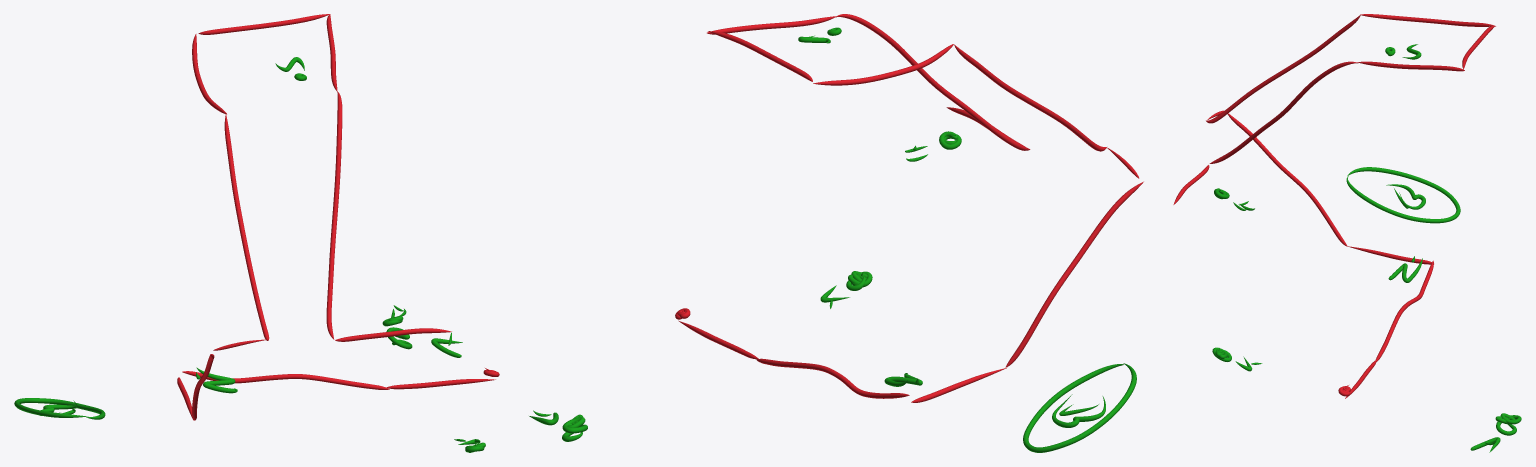
The picture shows the model from 3 angles, left to right: view 1: azimuth 30°, elevation 25°; view 2: azimuth 150°, elevation 25°; view 3: azimuth 270°, elevation 25°; orthographic projection. The views are drawn at different scales.
Visible parts, largest first — view 1: s.0029, s.0025, s.0020, s.0040, s.0027, s.0030, s.0022; view 2: s.0040, s.0023, s.0029, s.0025, s.0020, s.0026, s.0028, s.0027; view 3: s.0040, s.0025, s.0029, s.0023, s.0026, s.0020, s.0028, s.0033.
Part boxes in pixels (left/top/right/bottom): s.0029: left=326, top=92, right=342, bottom=339; s.0025: left=224, top=114, right=269, bottom=340; s.0020: left=182, top=371, right=389, bottom=389; s.0040: left=14, top=398, right=105, bottom=419; s.0027: left=198, top=14, right=330, bottom=34; s.0030: left=335, top=328, right=451, bottom=341; s.0022: left=386, top=379, right=495, bottom=389; s.0040: left=1023, top=363, right=1136, bottom=452; s.0023: left=1005, top=181, right=1143, bottom=367; s.0029: left=835, top=14, right=1030, bottom=150; s.0025: left=954, top=44, right=1106, bottom=151; s.0020: left=756, top=358, right=909, bottom=398; s.0026: left=813, top=44, right=953, bottom=85; s.0028: left=707, top=16, right=837, bottom=34; s.0027: left=708, top=31, right=812, bottom=81; s.0040: left=1346, top=167, right=1460, bottom=223; s.0025: left=1206, top=15, right=1360, bottom=123; s.0029: left=1209, top=61, right=1358, bottom=163; s.0023: left=1227, top=113, right=1347, bottom=246; s.0026: left=1360, top=14, right=1495, bottom=26; s.0020: left=1375, top=260, right=1433, bottom=361; s.0028: left=1357, top=61, right=1464, bottom=71; s.0033: left=1495, top=413, right=1521, bottom=435.
Bounding box in the file's own units: 146 × 105 × 109.
